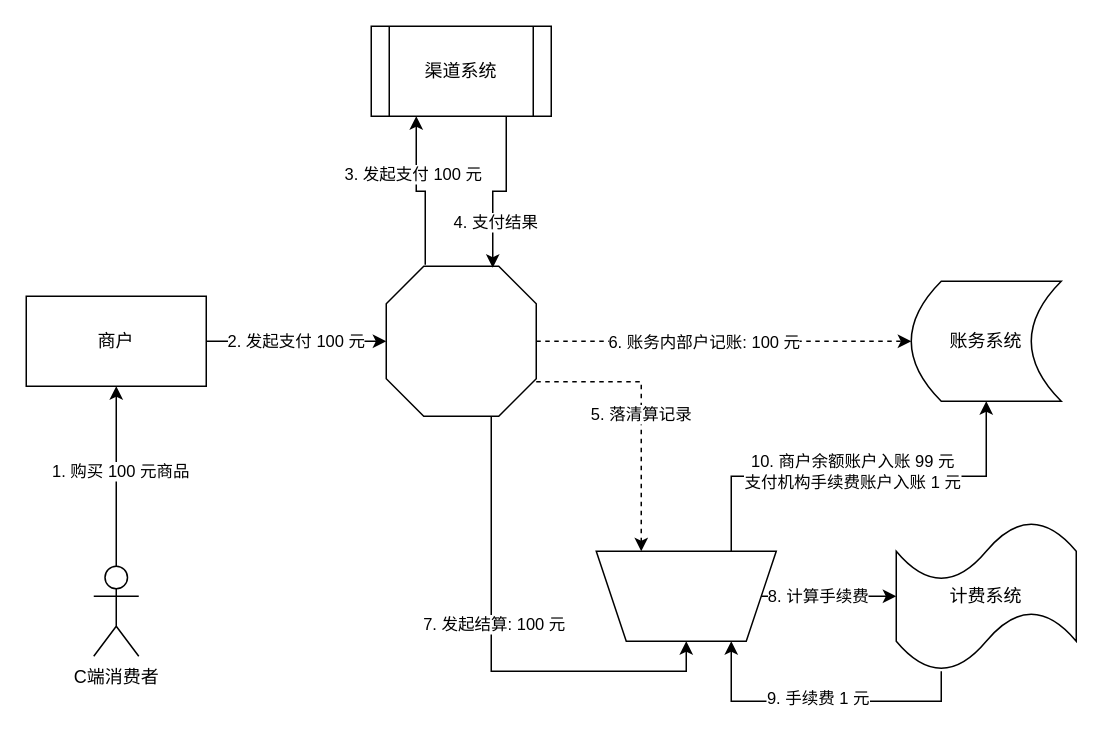
The diagram is 1103 pixels wide and 740 high, and some of its shapes have lost their labels. The shapes that lost their labels are listed below. From the top down, each one's centre as x and y in pixels, then its label:
the point at 460,340: 支付核心
the point at 685,595: 清结算系统
